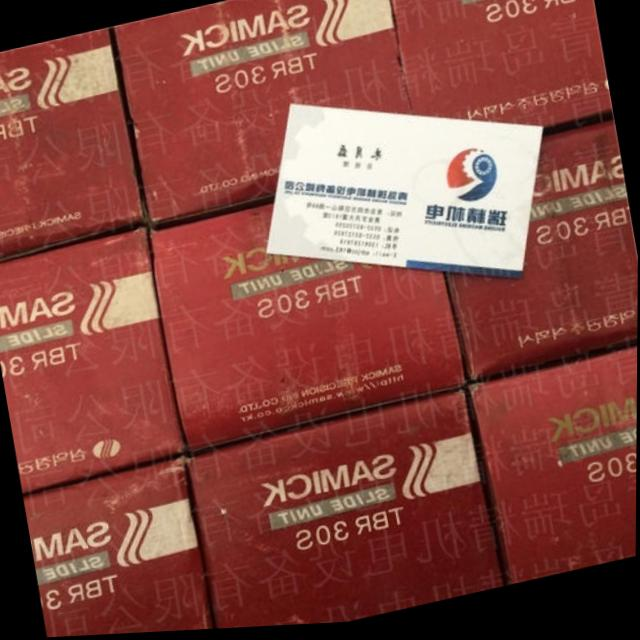box: (149, 205, 470, 454), (189, 395, 507, 631), (112, 0, 410, 225), (446, 123, 638, 388), (0, 231, 186, 493), (472, 351, 638, 589), (25, 454, 216, 638), (0, 31, 147, 260), (390, 0, 613, 132)
